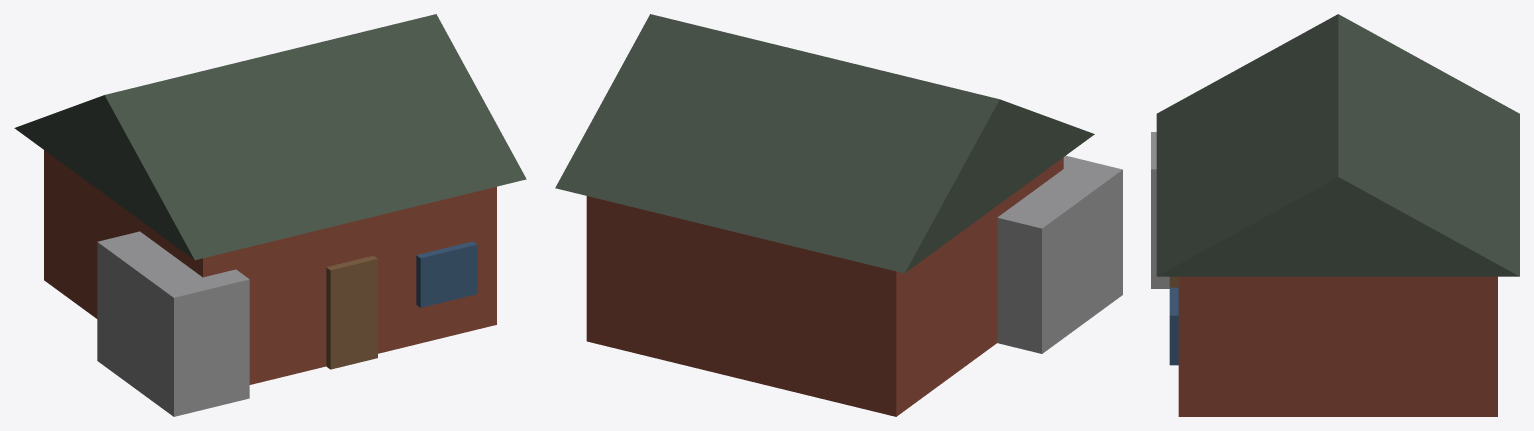
The model's file is house_2000_b.glb.
3 views of the same model, side by side, from view 1: azimuth 30°, elevation 25°; view 2: azimuth 150°, elevation 25°; view 3: azimuth 270°, elevation 25° (orthographic). The views are drawn at different scales.
Visible parts, largest first — view 1: Roof, Walls, Garage, Door, Window; view 2: Roof, Walls, Garage; view 3: Roof, Walls, Garage, Window.
Part boxes in pixels (x1=…): Roof: x1=14, y1=14, x2=526, y2=260; Walls: x1=44, y1=150, x2=496, y2=384; Garage: x1=97, y1=231, x2=249, y2=416; Door: x1=326, y1=255, x2=377, y2=369; Window: x1=416, y1=241, x2=477, y2=307; Roof: x1=555, y1=14, x2=1094, y2=273; Walls: x1=586, y1=157, x2=1063, y2=416; Garage: x1=997, y1=155, x2=1122, y2=353; Roof: x1=1156, y1=14, x2=1519, y2=276; Walls: x1=1178, y1=276, x2=1497, y2=416; Garage: x1=1151, y1=132, x2=1169, y2=288; Window: x1=1169, y1=287, x2=1178, y2=365.
Size of the model in its own units: 0.75 by 0.5 by 0.67.
